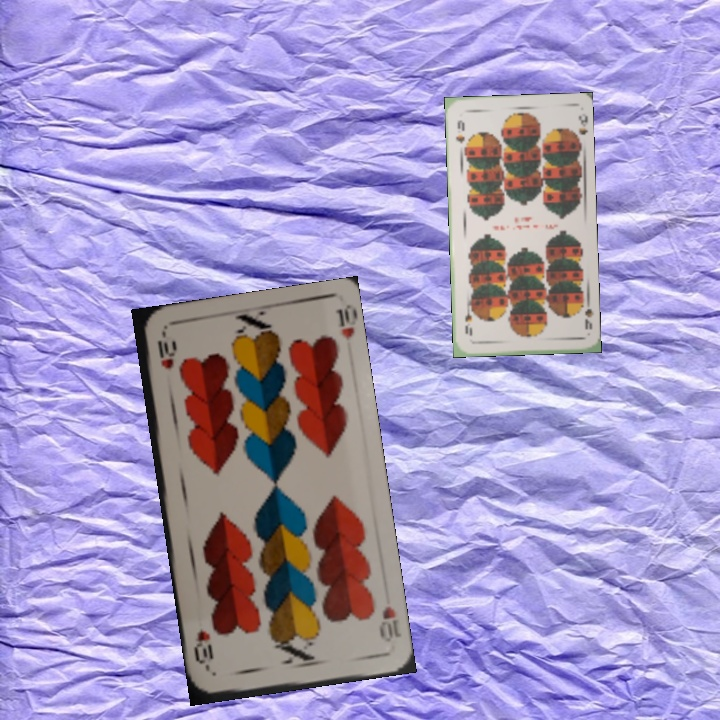H10: (375, 601, 403, 645), (153, 330, 174, 371)
S9: (575, 296, 595, 332), (452, 116, 467, 146)
